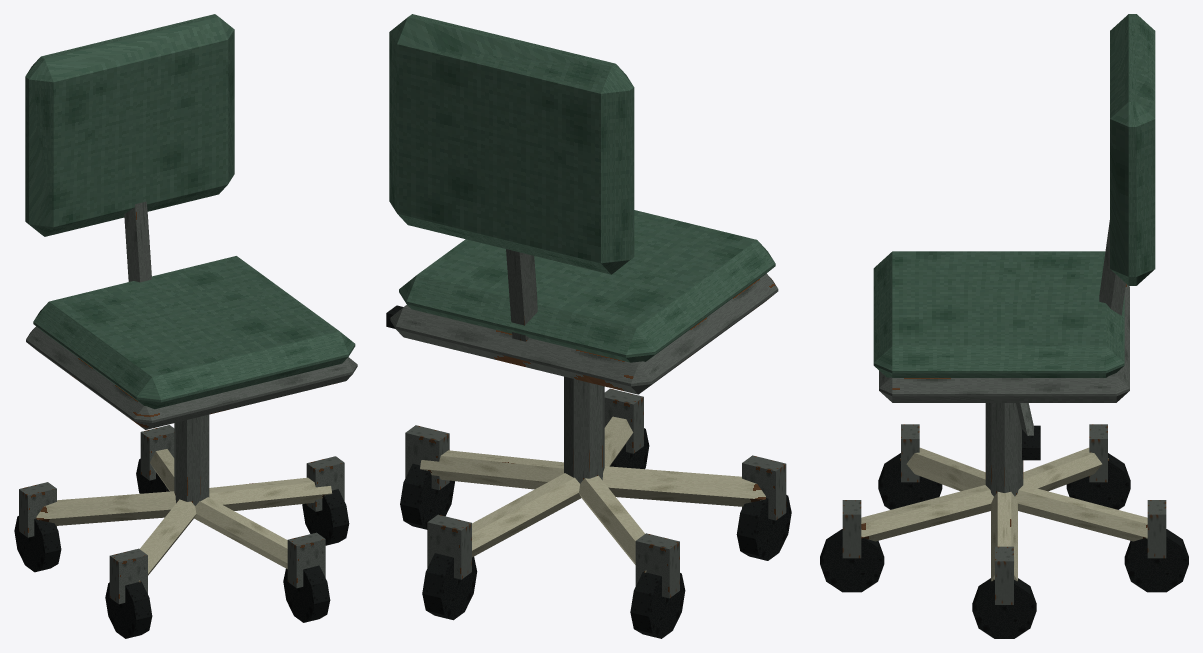
The model's file is swivel_chair.glb.
The picture shows the model from 3 angles, left to right: view 1: azimuth 30°, elevation 25°; view 2: azimuth 150°, elevation 25°; view 3: azimuth 270°, elevation 25°; orthographic projection. The views are drawn at different scales.
Parts seen in each view (by area): view 1: Chair_Swivel_Mesh.001, 04_Swivel_Chair_Mesh.001; view 2: Chair_Swivel_Mesh.001, 04_Swivel_Chair_Mesh.001; view 3: Chair_Swivel_Mesh.001, 04_Swivel_Chair_Mesh.001.
Boxes of the visible parts, x1,y1,x2,y2 form: Chair_Swivel_Mesh.001: (25, 14, 357, 429); 04_Swivel_Chair_Mesh.001: (14, 414, 349, 638); Chair_Swivel_Mesh.001: (386, 14, 778, 394); 04_Swivel_Chair_Mesh.001: (400, 376, 791, 638); Chair_Swivel_Mesh.001: (873, 14, 1155, 460); 04_Swivel_Chair_Mesh.001: (820, 403, 1188, 638).
Size of the model in its own units: 0.6152 by 1.05 by 0.6906.
Materials: 1 (1 with a texture image).
